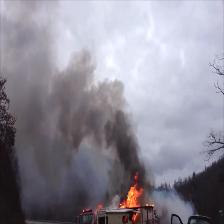fire: (118, 186, 143, 205)
smoke: (58, 76, 124, 150), (15, 20, 54, 137), (120, 155, 143, 186)
